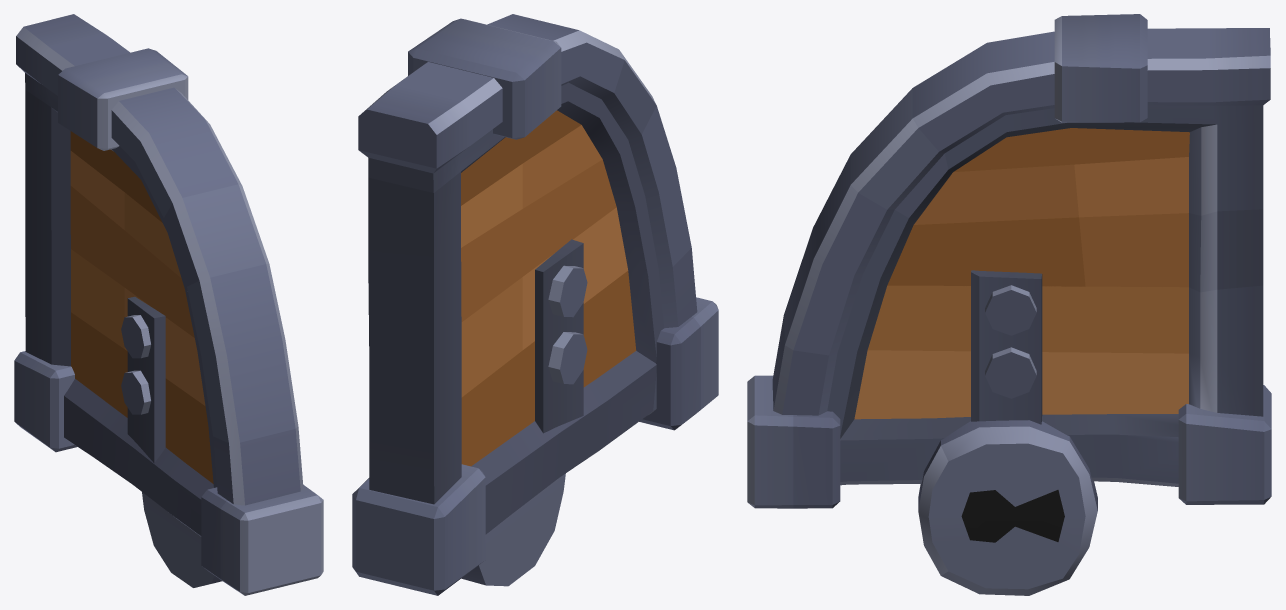
The model's file is gate-door-b.obj.
3 views of the same model, side by side, from view 1: azimuth 30°, elevation 25°; view 2: azimuth 150°, elevation 25°; view 3: azimuth 270°, elevation 25° (orthographic). The views are drawn at different scales.
Size of the model in its own units: 1.31 by 6.15 by 5.43.
Materials: 1 (1 with a texture image).
